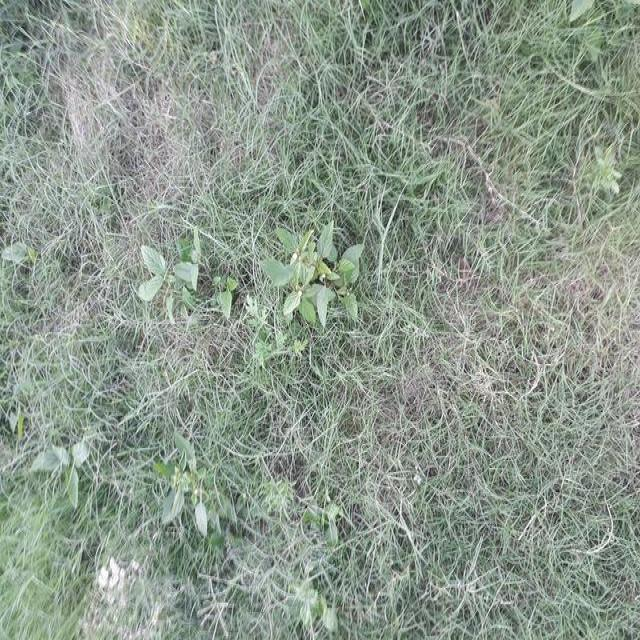weed: (258, 239, 371, 334), (150, 426, 212, 541), (140, 244, 198, 324), (33, 431, 85, 510)
